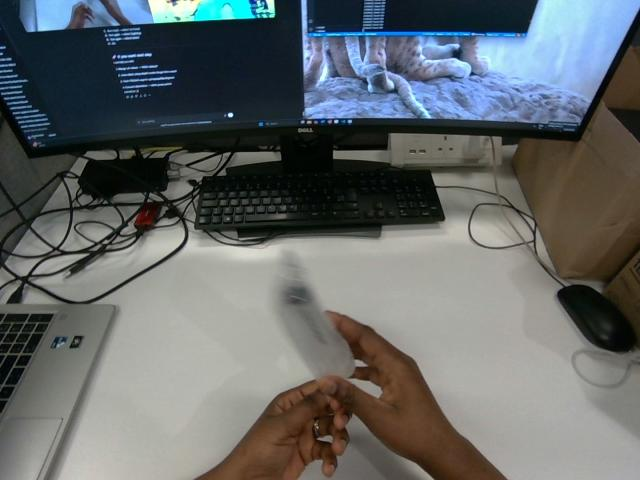syringe: (277, 253, 354, 378)
